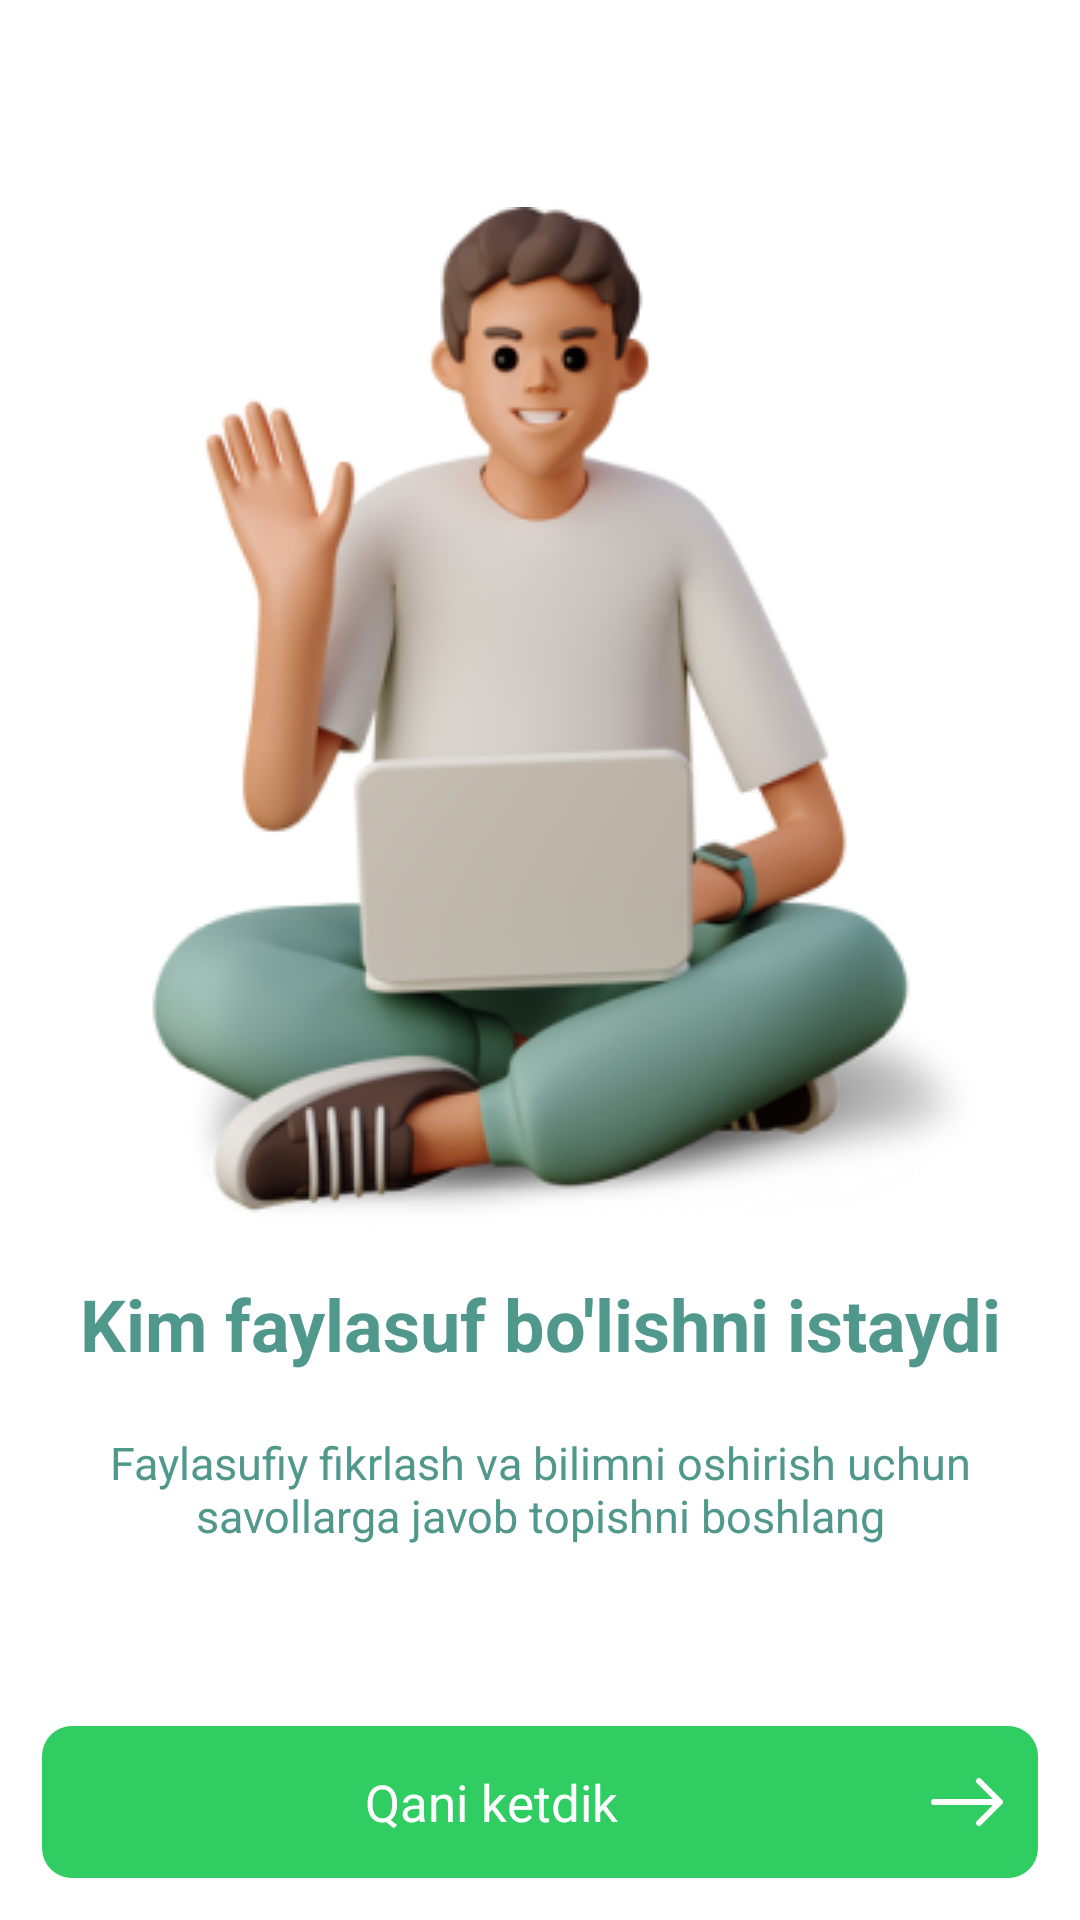

Icon bounding boxes for this 1080px×1920px phone screenshot, format region(x1, y1, x2, y2):
next: region(931, 1778, 1003, 1826)
